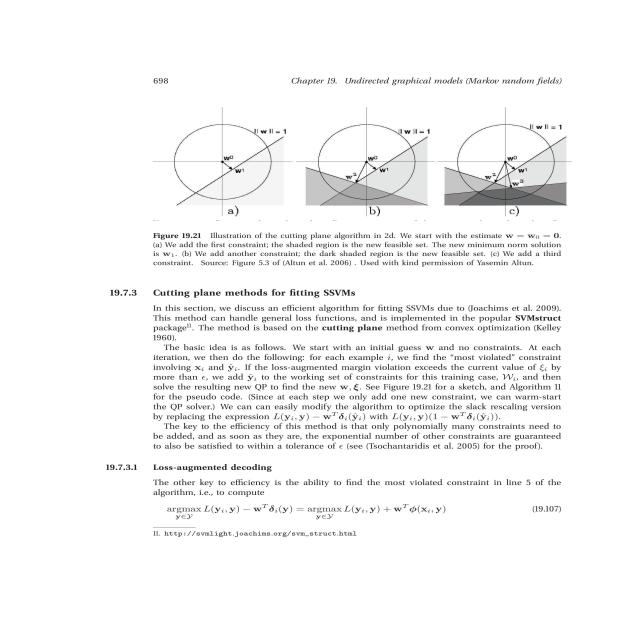diagram: (97, 113, 616, 286)
